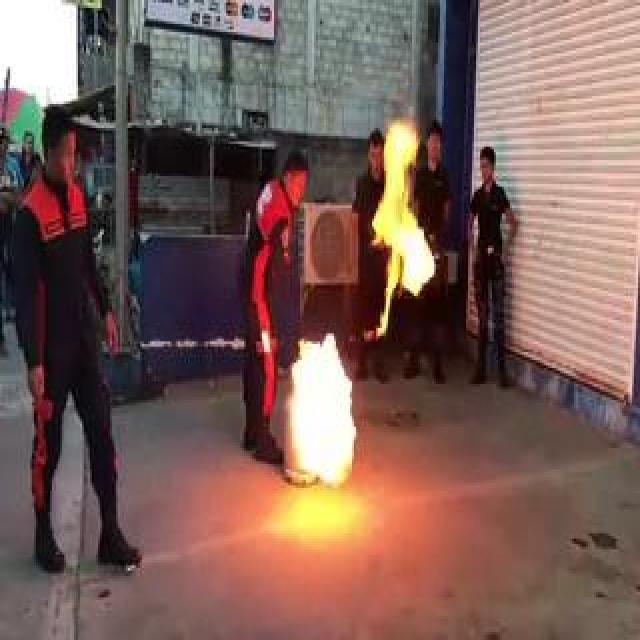Smoke: (363, 121, 429, 340), (282, 363, 352, 456)
